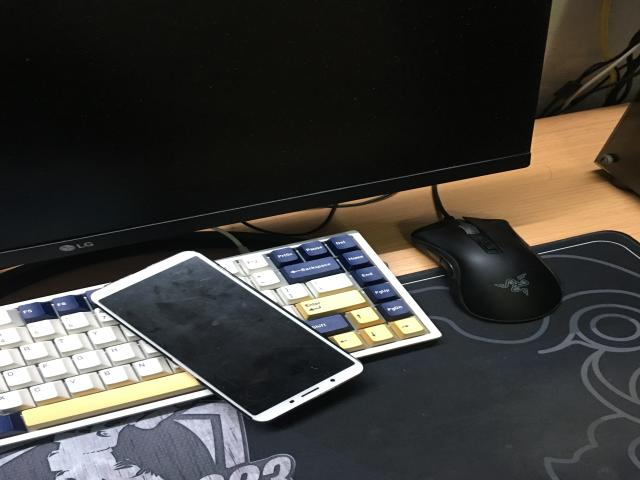Mobile phone: (92, 251, 363, 422)
Mouse: (412, 186, 562, 322)
